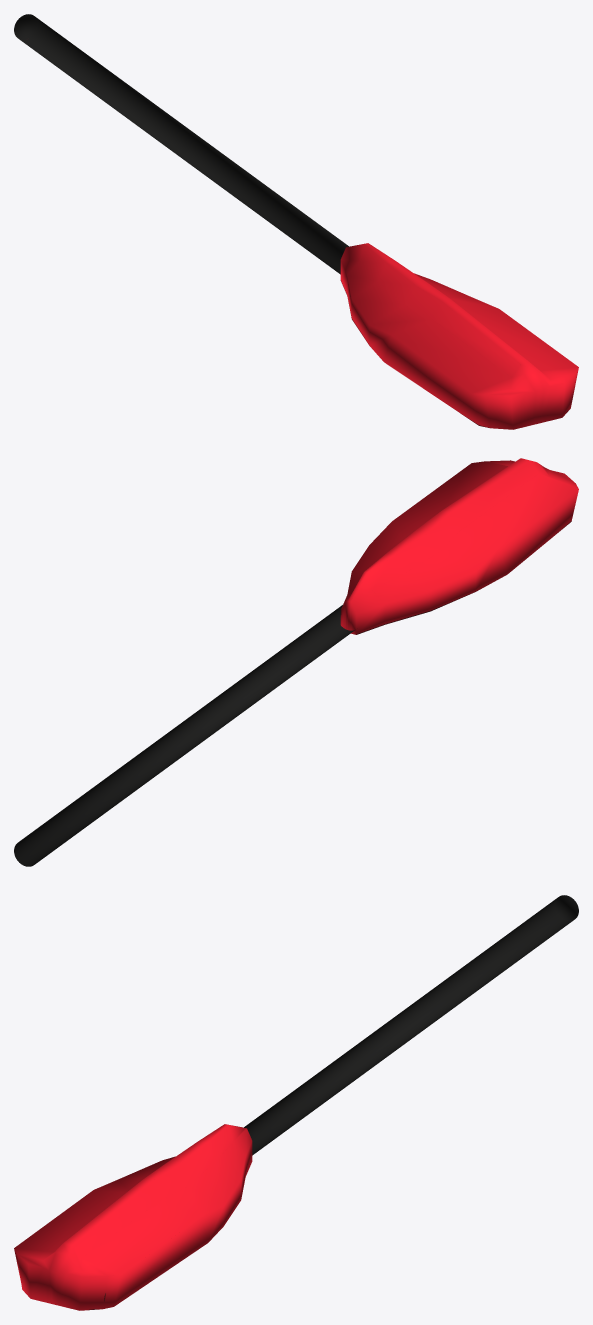
The model's file is remo.fbx.
3 views of the same model, one above another, from view 1: azimuth 30°, elevation 25°; view 2: azimuth 150°, elevation 25°; view 3: azimuth 330°, elevation 25° (orthographic).
Parts seen in each view (by area): view 1: Cube.003; view 2: Cube.003; view 3: Cube.003.
Boxes of the visible parts, x1,y1,x2,y2 form: Cube.003: (14,14,578,429); Cube.003: (14,458,578,866); Cube.003: (14,895,578,1310).
Size of the model in its own units: 8.05 by 3.55 by 58.38.
Materials: 1 (1 with a texture image).
